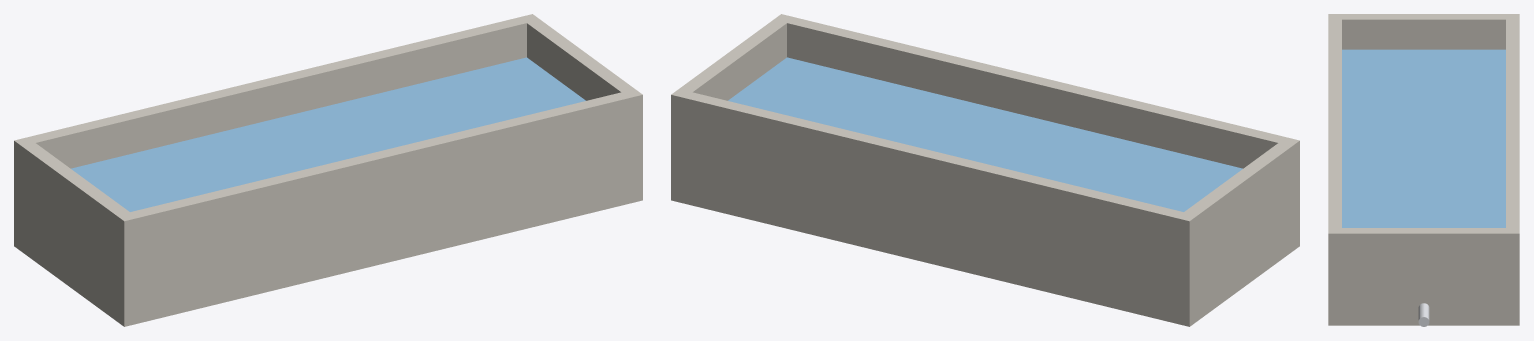
3 renders of one model, left to right at view 1: azimuth 30°, elevation 25°; view 2: azimuth 150°, elevation 25°; view 3: azimuth 270°, elevation 25°, orthographic. The views are drawn at different scales.
Visible parts, largest first — view 1: comun_desarenador__longitudinal__cuerpo, comun_desarenador__longitudinal__agua; view 2: comun_desarenador__longitudinal__cuerpo, comun_desarenador__longitudinal__agua; view 3: comun_desarenador__longitudinal__cuerpo, comun_desarenador__longitudinal__agua, comun_desarenador__longitudinal__purga.
Boxes of the visible parts, bbox=[...] form: comun_desarenador__longitudinal__cuerpo: bbox=[14, 14, 642, 326]; comun_desarenador__longitudinal__agua: bbox=[71, 57, 585, 211]; comun_desarenador__longitudinal__cuerpo: bbox=[671, 14, 1299, 326]; comun_desarenador__longitudinal__agua: bbox=[728, 57, 1242, 211]; comun_desarenador__longitudinal__cuerpo: bbox=[1328, 14, 1519, 325]; comun_desarenador__longitudinal__agua: bbox=[1342, 49, 1505, 227]; comun_desarenador__longitudinal__purga: bbox=[1418, 303, 1429, 326].
Bounding box in the file's own units: 10.1 × 1.85 × 3.5.
